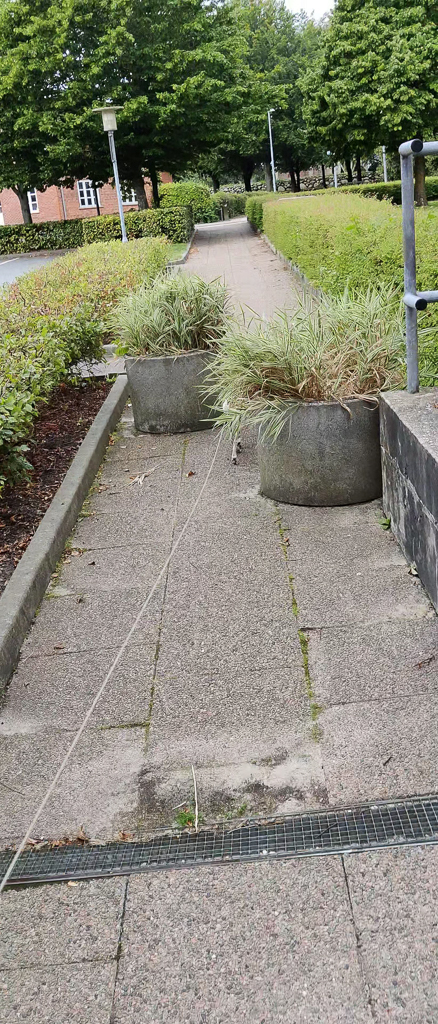Dog: (217, 392, 252, 469)
